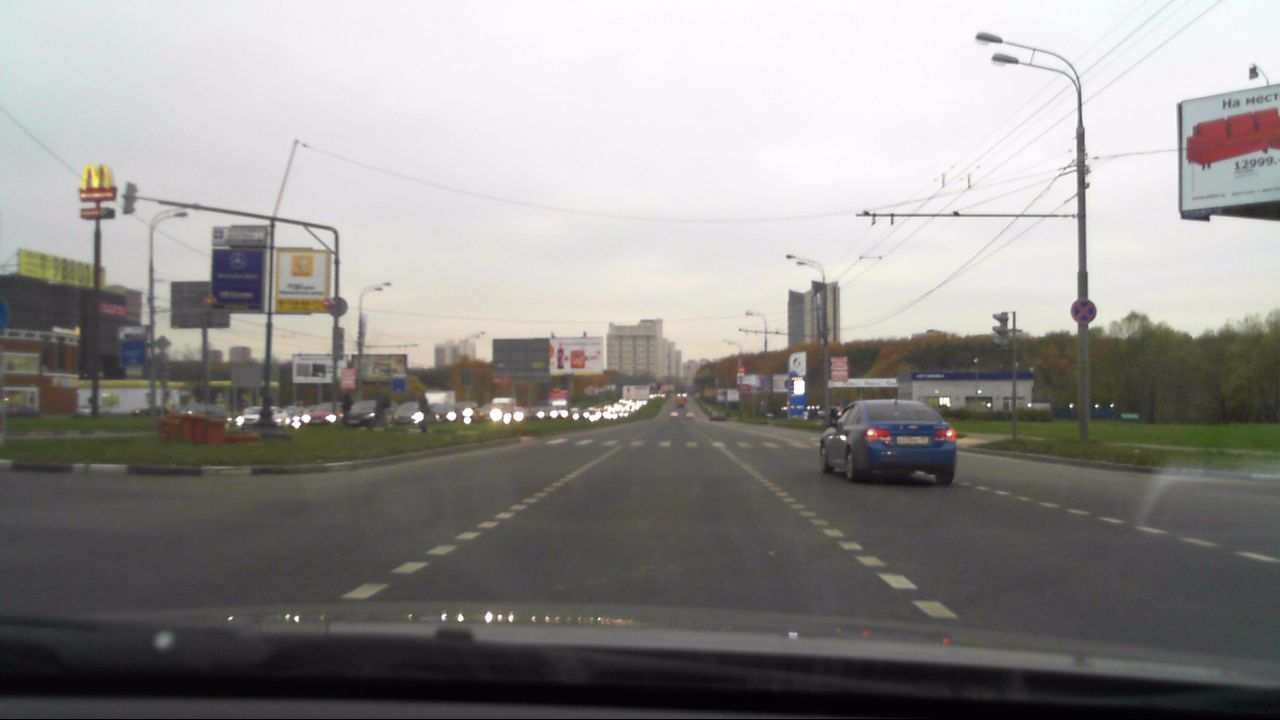No Parking: (1068, 298, 1096, 324)
